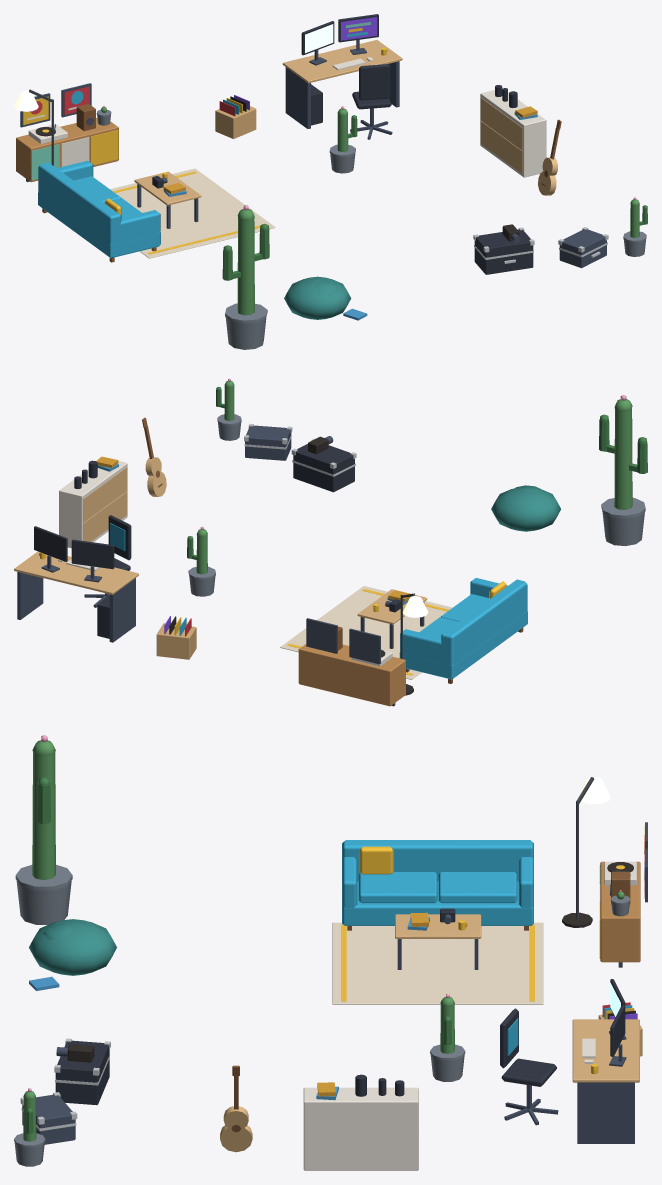
Rendered from einrichtung_younes_ecke.glb.
The picture shows the model from 3 angles, top to bottom: view 1: azimuth 30°, elevation 25°; view 2: azimuth 150°, elevation 25°; view 3: azimuth 270°, elevation 25°; orthographic projection. The views are drawn at different scales.
Visible parts, largest first — view 1: einrichtung_younes_ecke; view 2: einrichtung_younes_ecke; view 3: einrichtung_younes_ecke.
Boxes of the visible parts, x1,y1,x2,y2 form: einrichtung_younes_ecke: [14, 14, 647, 349]; einrichtung_younes_ecke: [14, 378, 647, 706]; einrichtung_younes_ecke: [14, 735, 647, 1170].
Bounding box in the file's own units: 6.66 × 2.09 × 6.6.
